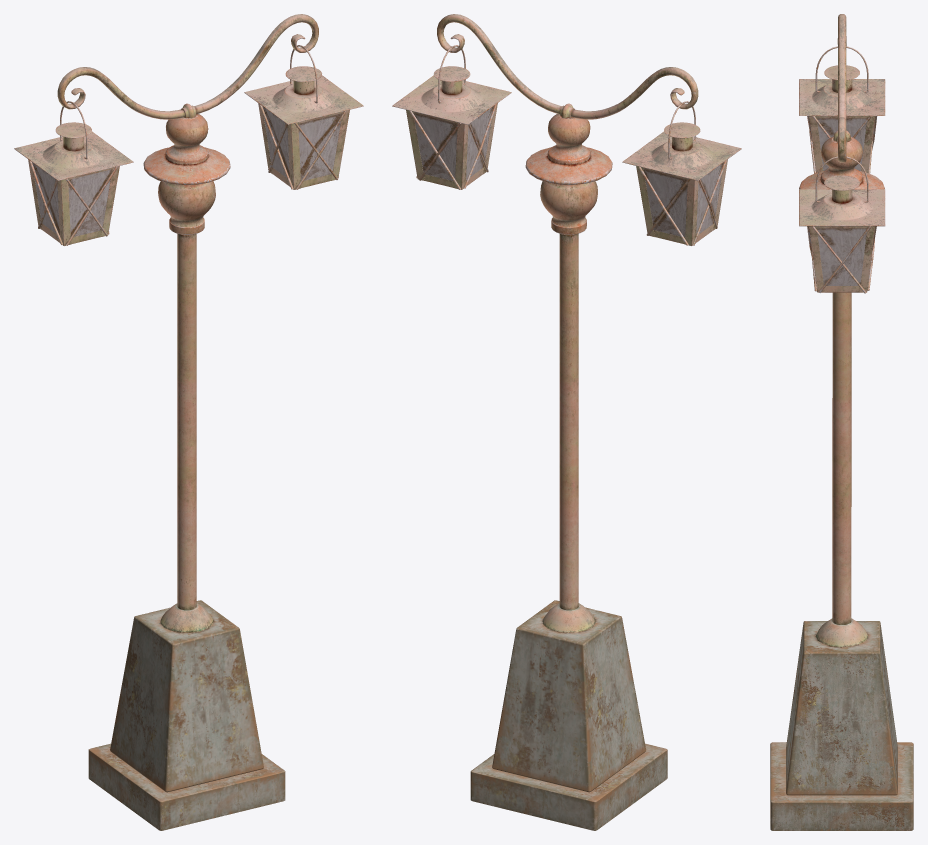
Rendered from stpk_Street light 03_lod_03.obj.
3 renders of one model, left to right at view 1: azimuth 30°, elevation 25°; view 2: azimuth 150°, elevation 25°; view 3: azimuth 270°, elevation 25°, orthographic.
Parts seen in each view (by area): view 1: asset mesh_01, mesh_02 asset; view 2: asset mesh_01, mesh_02 asset; view 3: asset mesh_01, mesh_02 asset.
Part boxes in pixels (x1,y1,x2,y2): asset mesh_01: (88,114,285,830); mesh_02 asset: (14,14,363,245); asset mesh_01: (470,114,667,830); mesh_02 asset: (392,14,741,245); asset mesh_01: (770,136,913,830); mesh_02 asset: (799,14,885,293).
Bounding box in the file's own units: 172 × 402 × 71.06.
